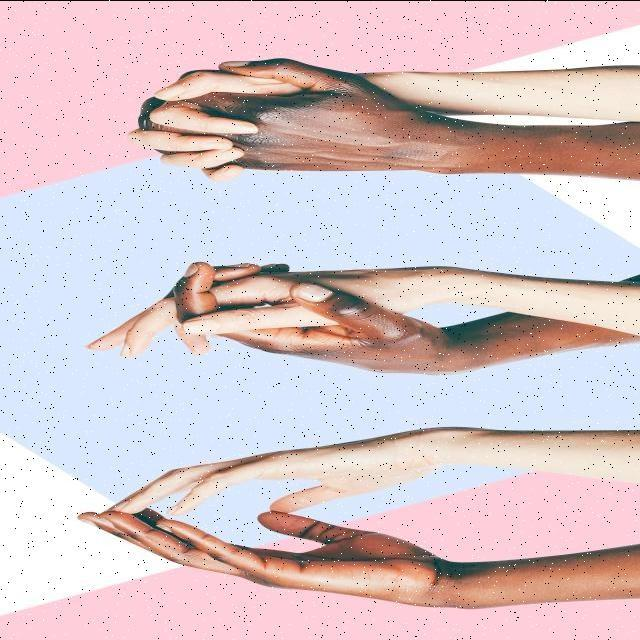no_apron: (110, 44, 422, 210), (78, 249, 456, 361), (87, 509, 420, 632), (98, 414, 426, 518), (220, 288, 453, 374)
